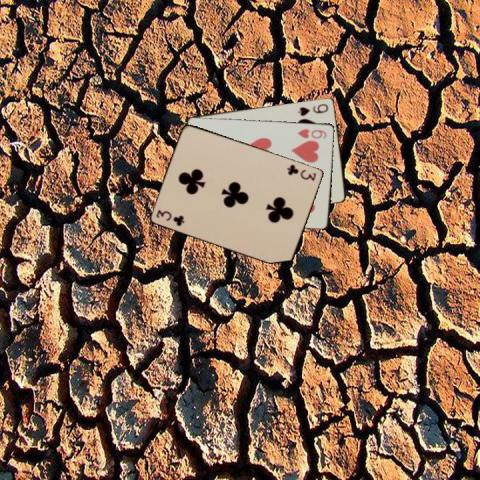3c: (285, 161, 317, 182), (153, 207, 186, 227)
6h: (295, 126, 328, 140)
9s: (295, 101, 329, 117)
